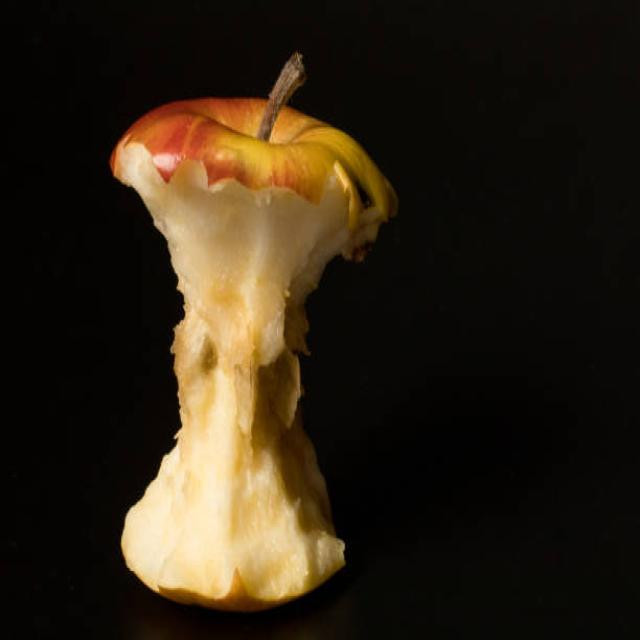apple_fruit: (100, 86, 416, 618)
